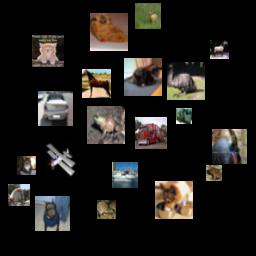airplane: (43, 140, 81, 178)
automobile: (38, 91, 73, 126)
bird: (167, 62, 205, 100), (212, 129, 247, 164), (97, 200, 116, 219)
cat: (124, 58, 162, 96), (32, 35, 64, 67), (17, 156, 36, 175)
deer: (135, 3, 161, 29)
dog: (155, 181, 193, 219), (90, 13, 128, 51), (35, 196, 70, 231)
frog: (87, 106, 125, 144), (206, 165, 222, 181)
ship: (112, 162, 138, 188)
truck: (135, 117, 167, 149), (176, 108, 192, 124)
